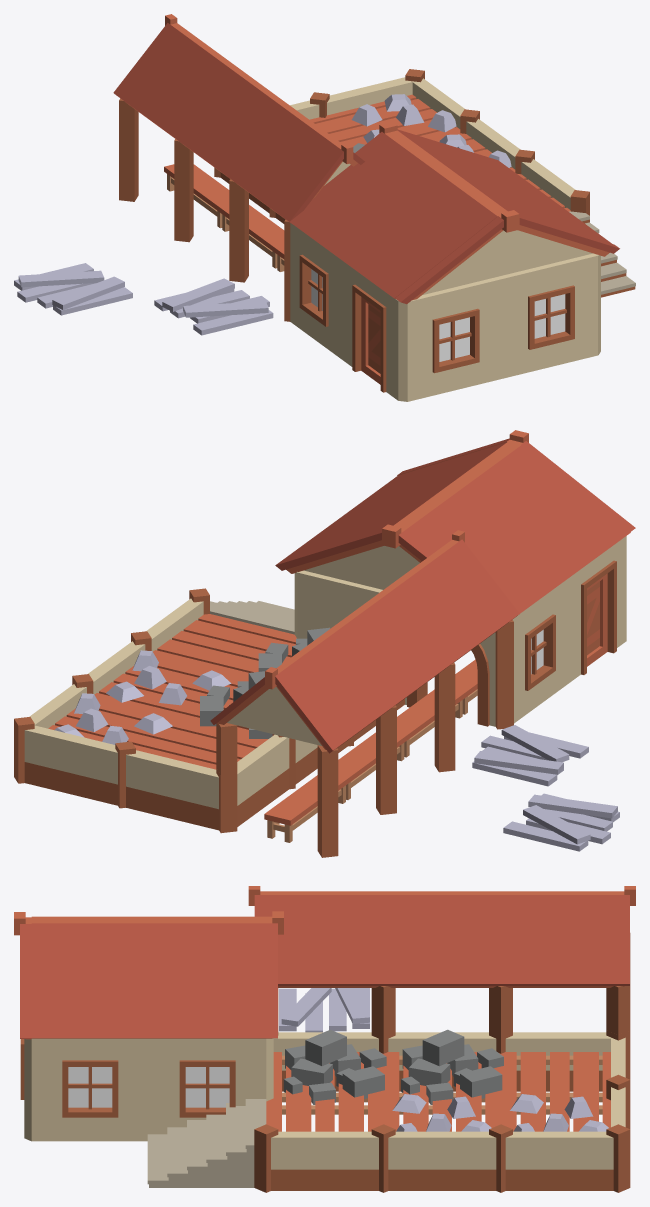
The model's file is usine_de_renouvellement.glb.
3 renders of one model, top to bottom at view 1: azimuth 30°, elevation 25°; view 2: azimuth 150°, elevation 25°; view 3: azimuth 270°, elevation 25°, orthographic. The views are drawn at different scales.
Visible parts, largest first — view 1: mergedBlocks(Clone); view 2: mergedBlocks(Clone); view 3: mergedBlocks(Clone).
Part boxes in pixels (left/top/right/bottom): mergedBlocks(Clone): left=14, top=14, right=635, bottom=401; mergedBlocks(Clone): left=14, top=430, right=635, bottom=857; mergedBlocks(Clone): left=14, top=886, right=635, bottom=1192.
Size of the model in its own units: 5.04 by 1.66 by 5.3.
Materials: 1 (1 with a texture image).
